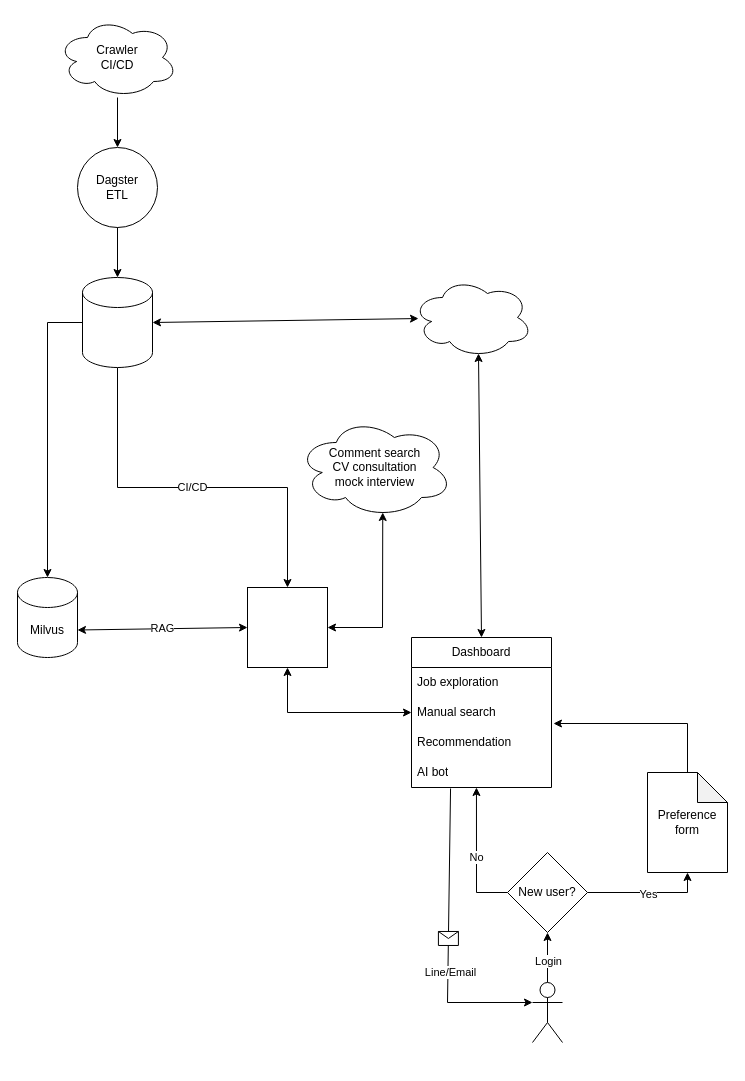
Image size: 745x1081. Some labels were removed from this diagram. The centre of each missing label's shape, as x and y in pixels:
AI agent: the point at 287,627
Backend: the point at 472,317
Supabase: the point at 117,322
User: the point at 547,1012
